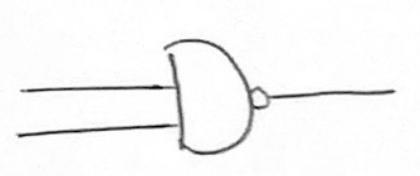NAND: (148, 26, 282, 172)
